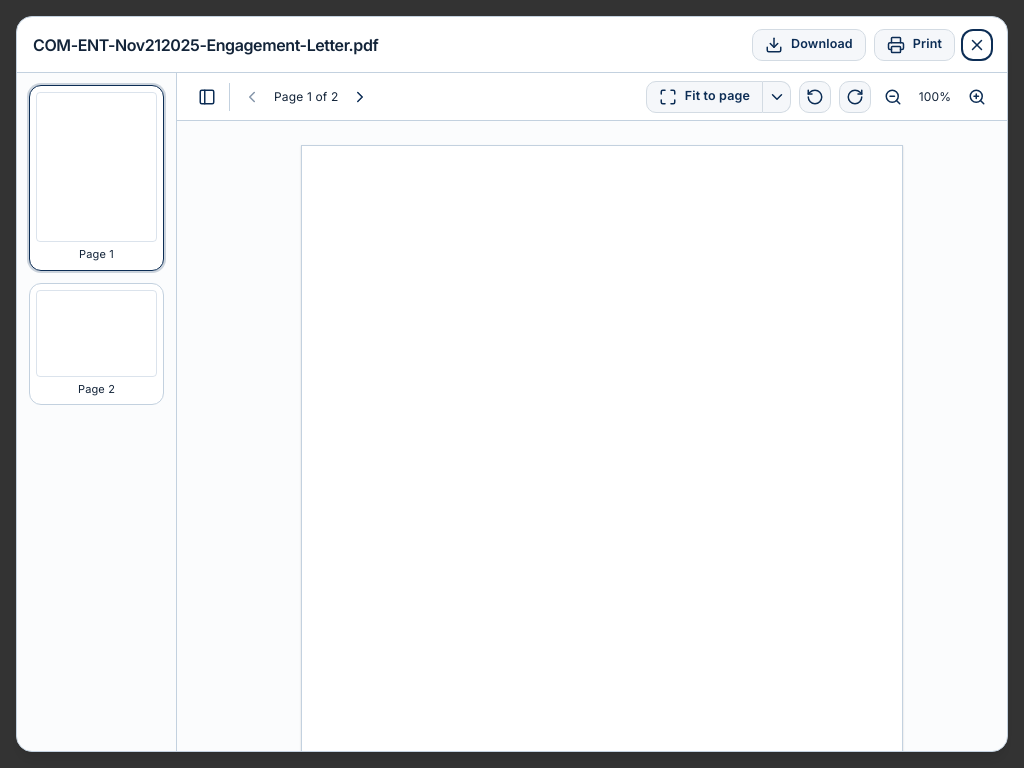
Test: Engagement Letter Preview modal › opens the named PDF with thumbnails, Fit, Rotate, and page/zoom controls, without editor controls
Expected: the text "Page 1 of 2" is shown, [274,88,338,104]
Expected: the heading "COM-ENT-Nov212025-Engagement-Letter.pdf" is shown, [33,34,378,54]
Click the button named "Next page" at coordinates (360, 96), box [346,82,374,110]
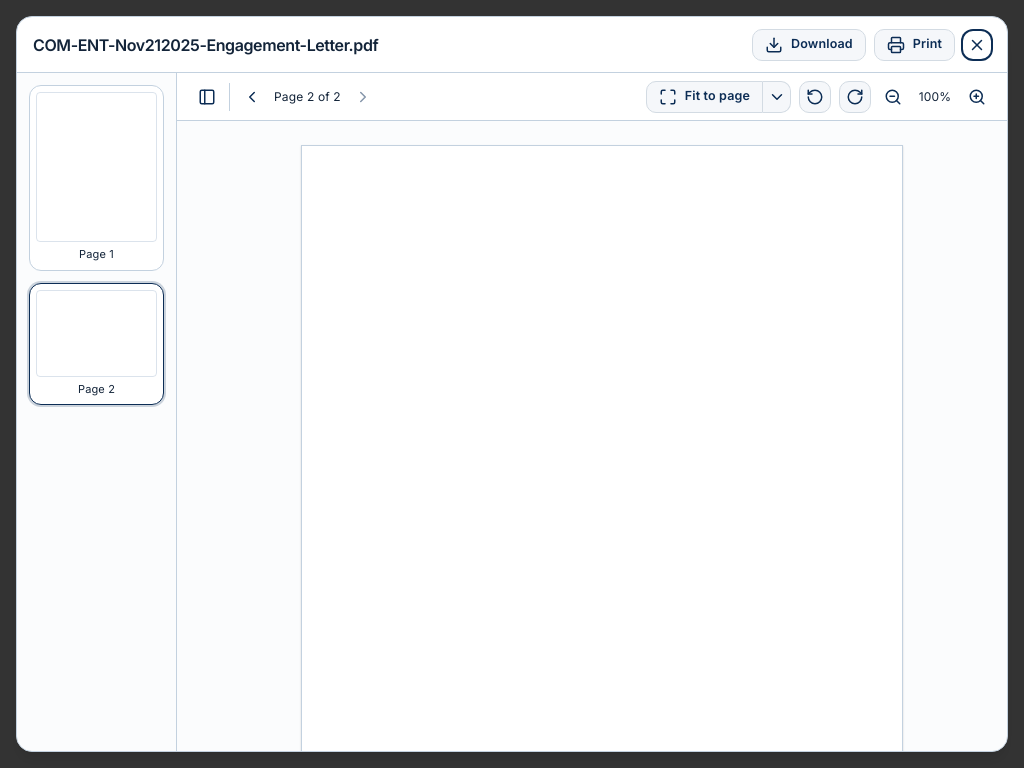
Result: the text "Page 2 of 2" is shown at [274,88,341,104]
Click the button named "Zoom in" at coordinates (977, 96), box [963,82,991,110]
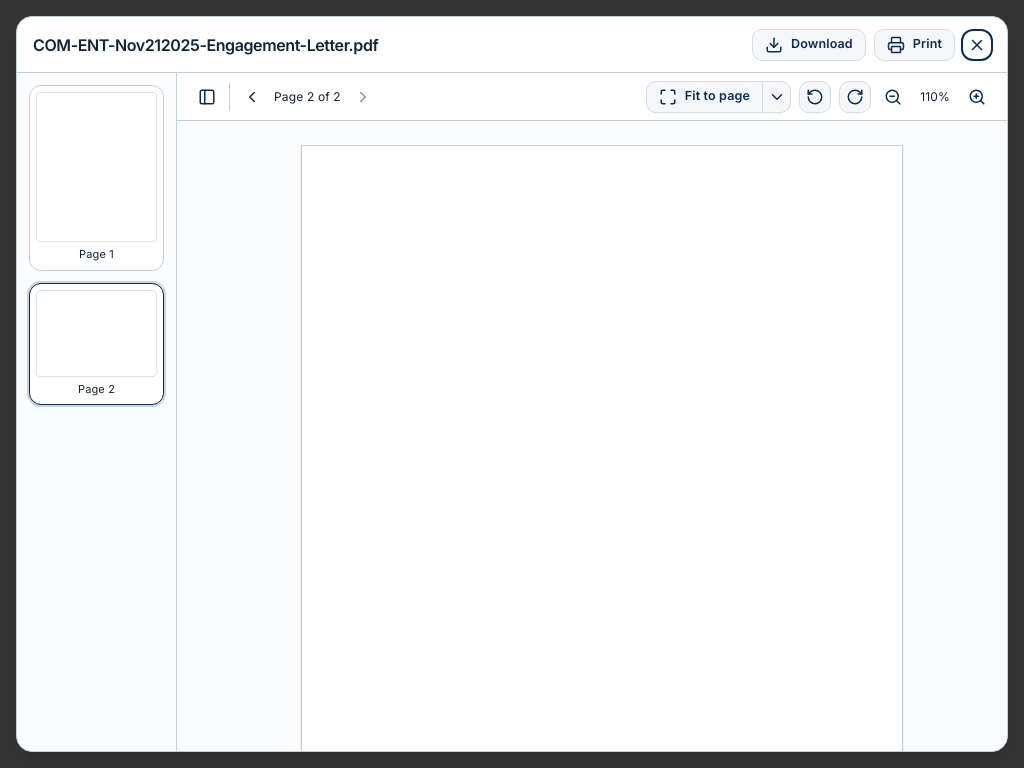
Result: the text "110%" is shown at [920,88,950,104]
Click the button named "Hide page thumbnails" at coordinates (207, 96), box [193,82,221,110]
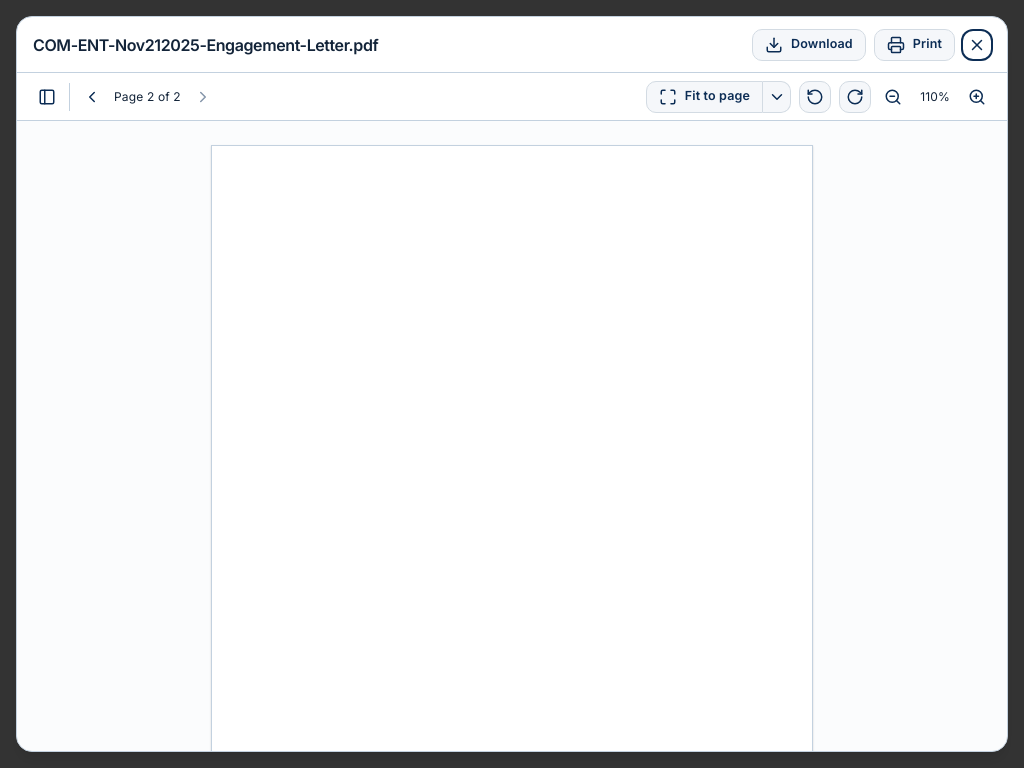
Click the button named "Show page thumbnails" at coordinates (47, 96), box [33,82,61,110]
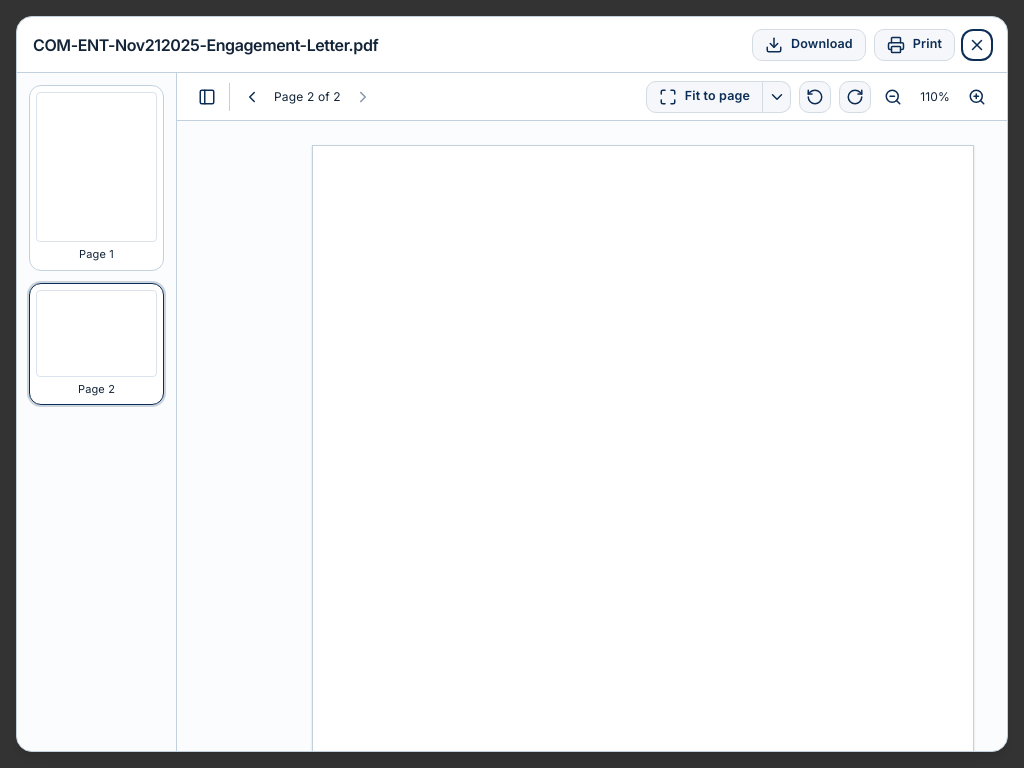
Result: the element named "Document page thumbnails" is shown at [17,73,177,751]
